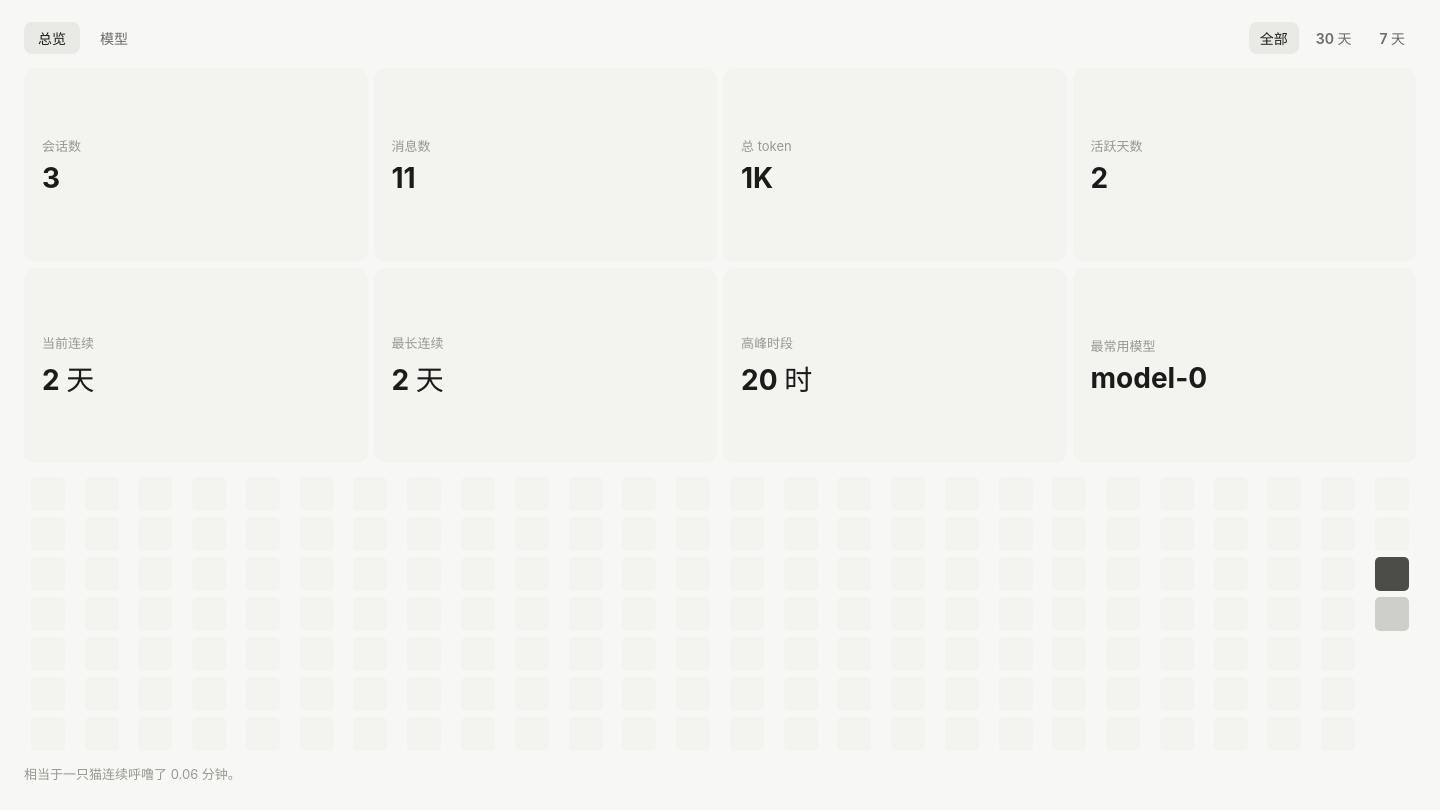
UsageStatsCard › counts the models a crowded hover card could not fit
Click the tab "模型": (114, 38) [86,22,142,54]
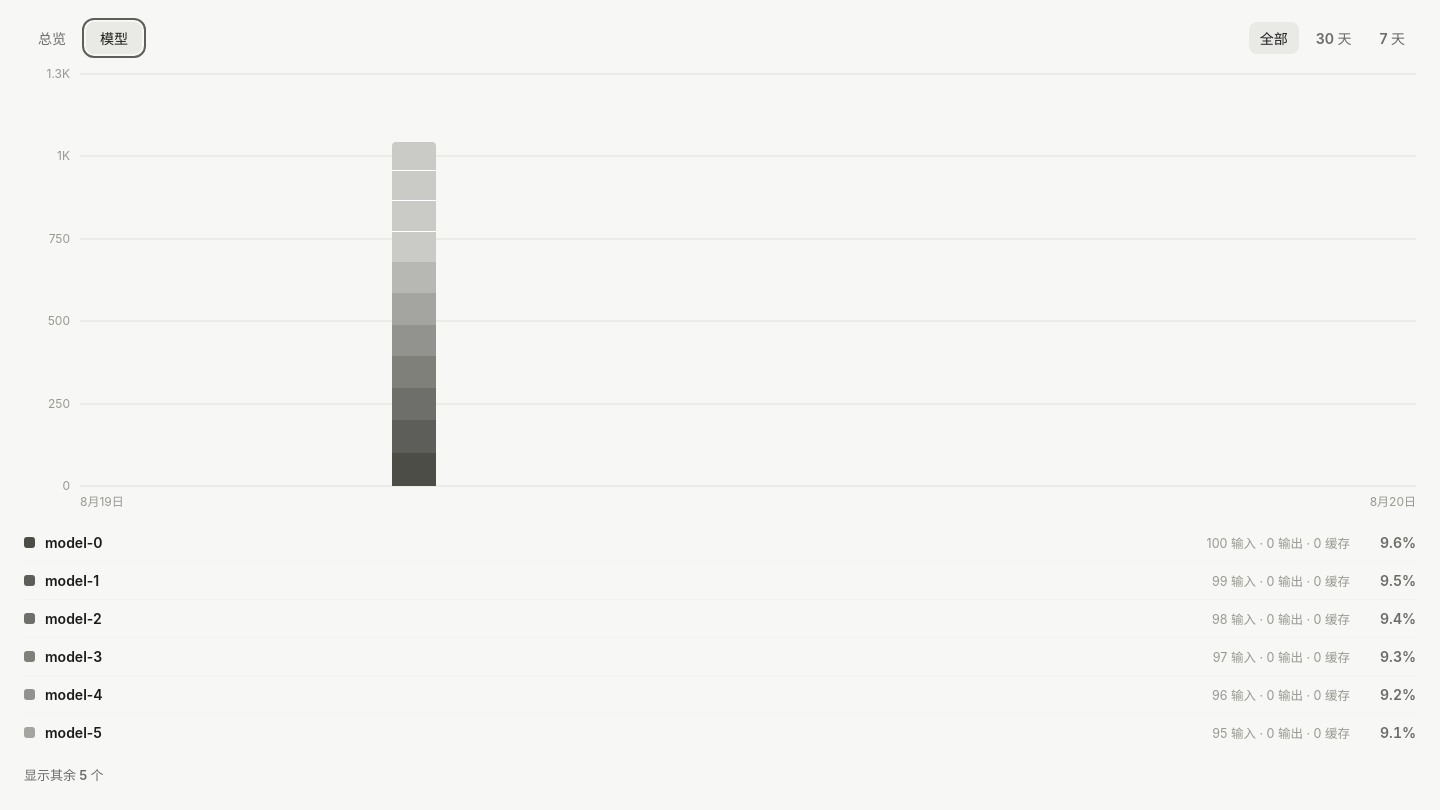
Hover over the 1st element with class "usage-stats__chart-column": (414, 314) [392,142,436,486]
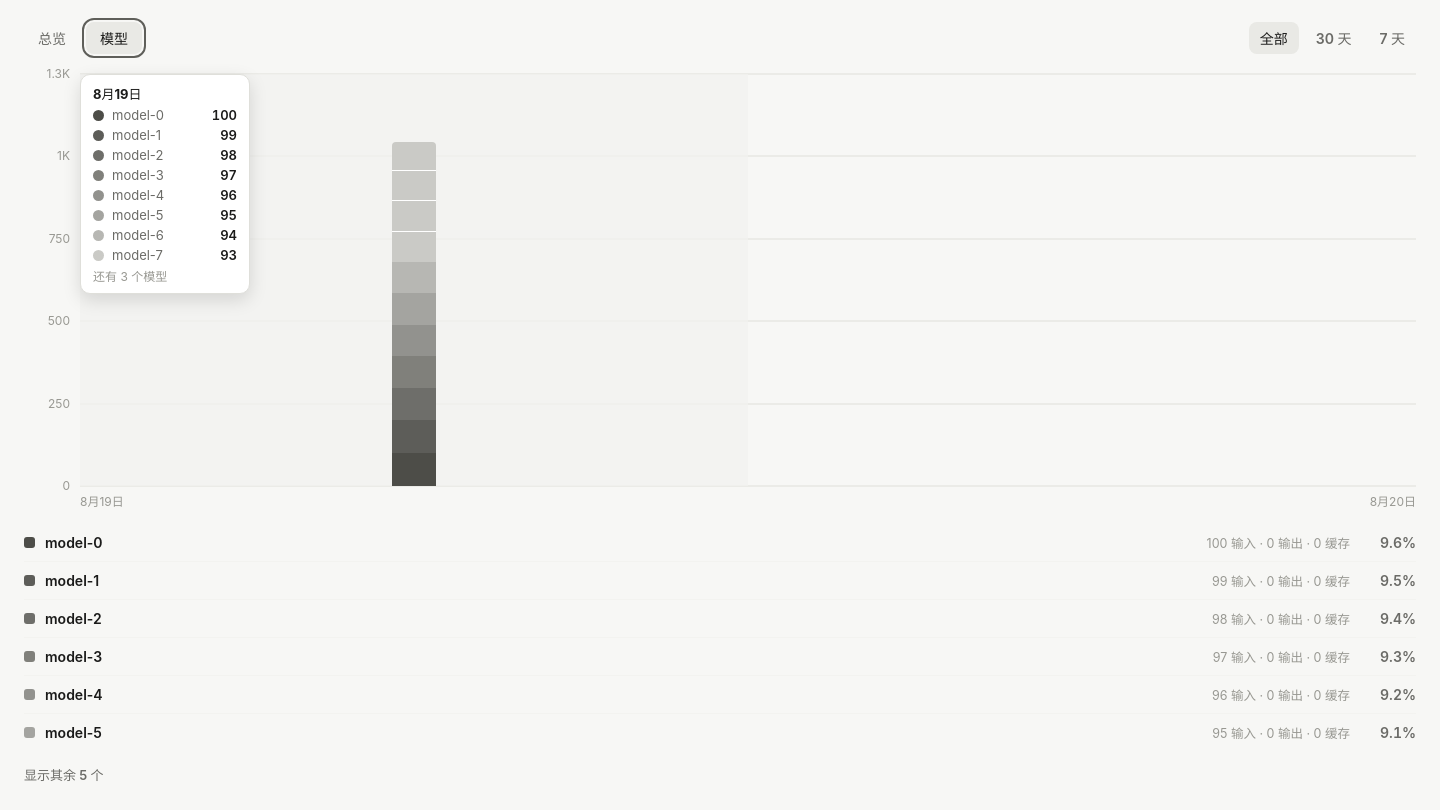
expect the number of elements with class "usage-stats__chart-tip-row" is 8: met
expect the text "还有 3 个模型" is shown: met, box [93,269,167,284]
# Every model is still reachable in the legend behind the toggle.
Click the button "显示其余 5 个": (64, 774) [24,765,104,784]
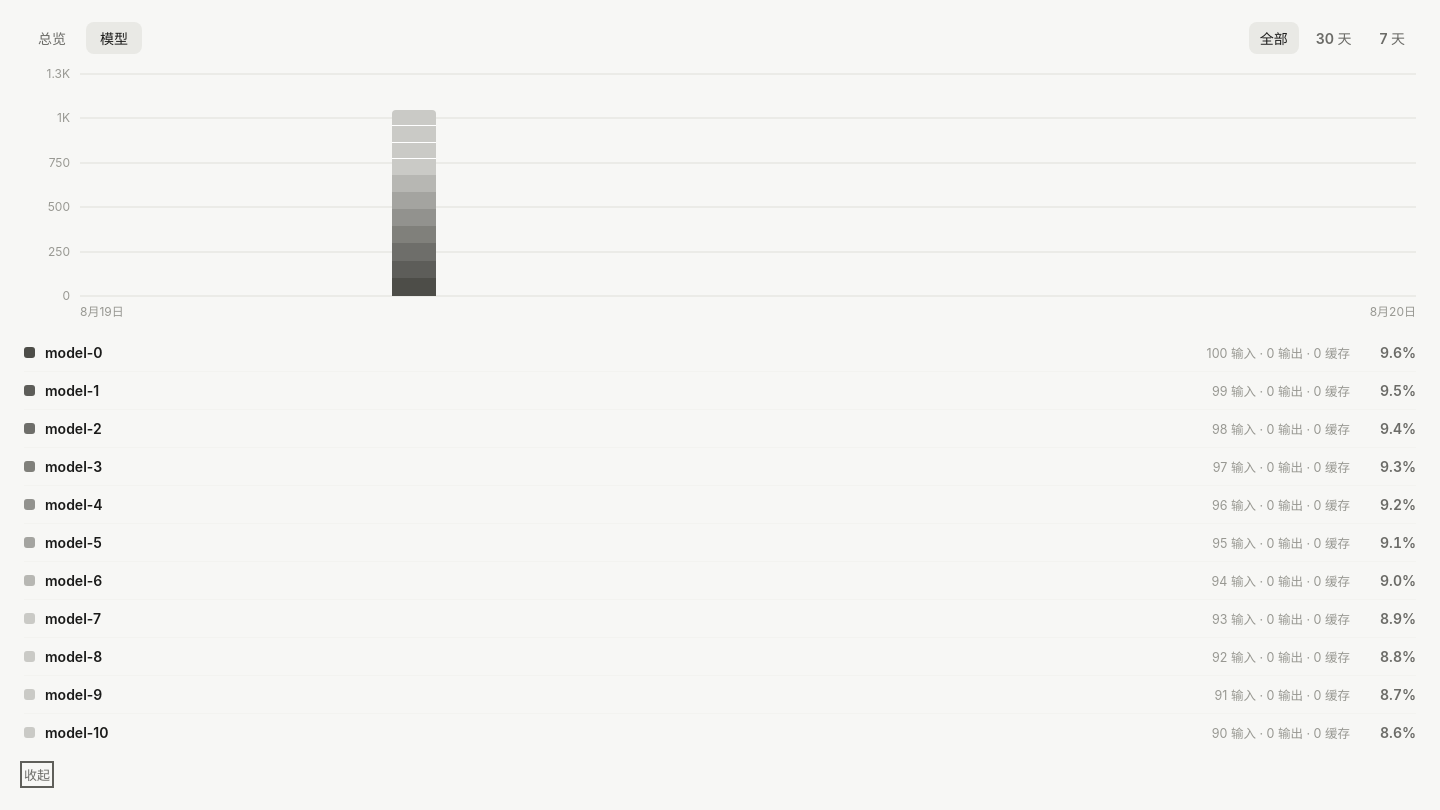
expect the text "model-10" is shown: met, box [45,724,108,741]
